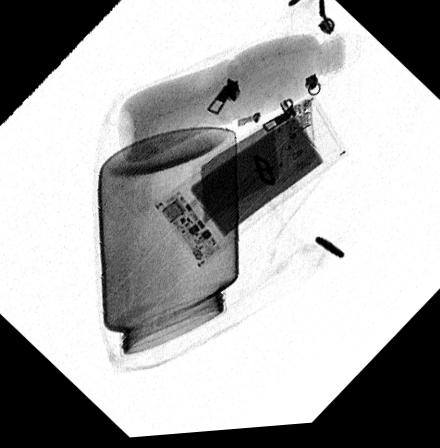Powerbank: (150, 98, 347, 274)
